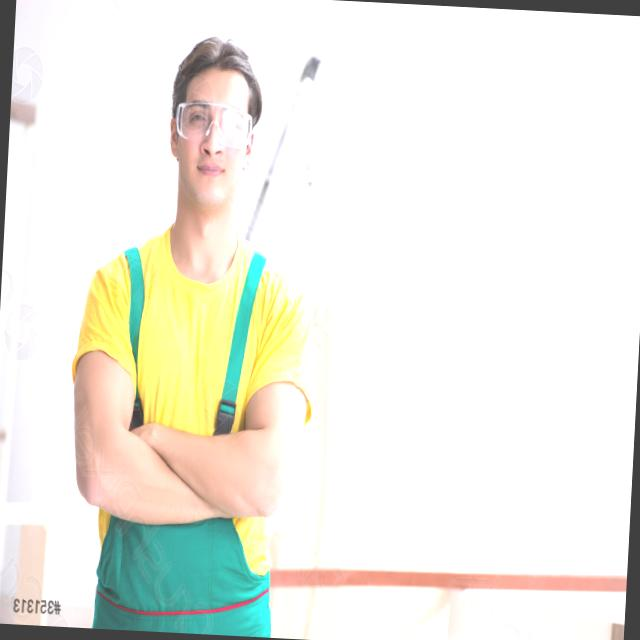goggles: (171, 97, 256, 159)
no-helmet: (160, 32, 273, 118)
no-vest: (85, 238, 290, 618)
